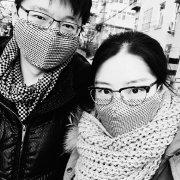OK: (15, 2, 81, 71), (93, 74, 157, 138)
